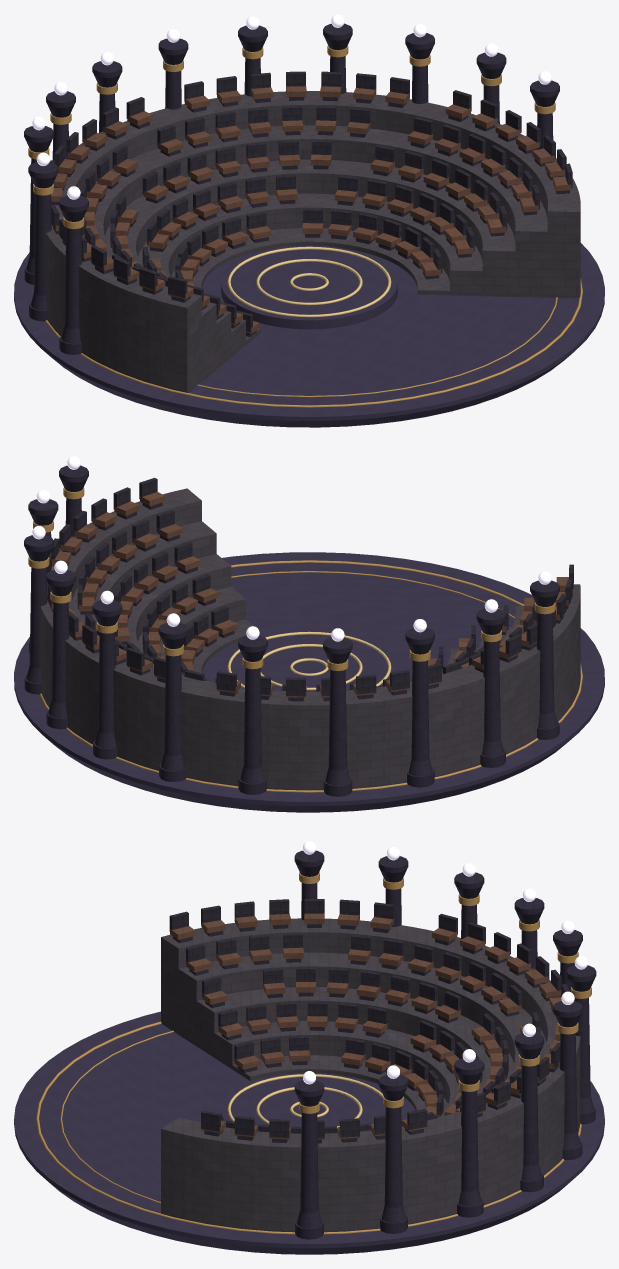
File: hecklebox-balcony.glb
3 views of the same model, one above another, from view 1: azimuth 30°, elevation 25°; view 2: azimuth 150°, elevation 25°; view 3: azimuth 270°, elevation 25° (orthographic).
Visible parts, largest first — view 1: Hecklebox Balcony; view 2: Hecklebox Balcony; view 3: Hecklebox Balcony.
Part boxes in pixels (x1,y1,x2,y2): Hecklebox Balcony: (14,14,604,427); Hecklebox Balcony: (14,456,604,812); Hecklebox Balcony: (14,841,604,1254).
Size of the model in its own units: 16.5 by 5.49 by 16.5.
10 materials, 8 textured.
